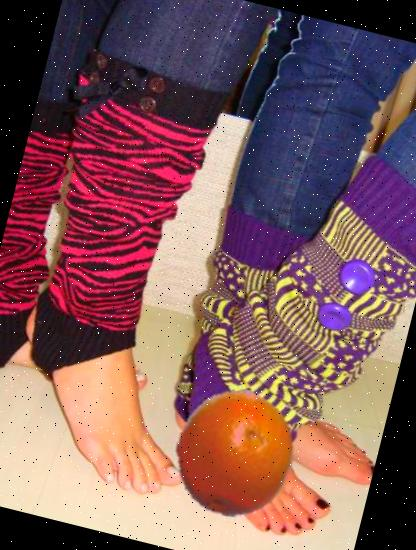Tangelo: (158, 376, 312, 530)
